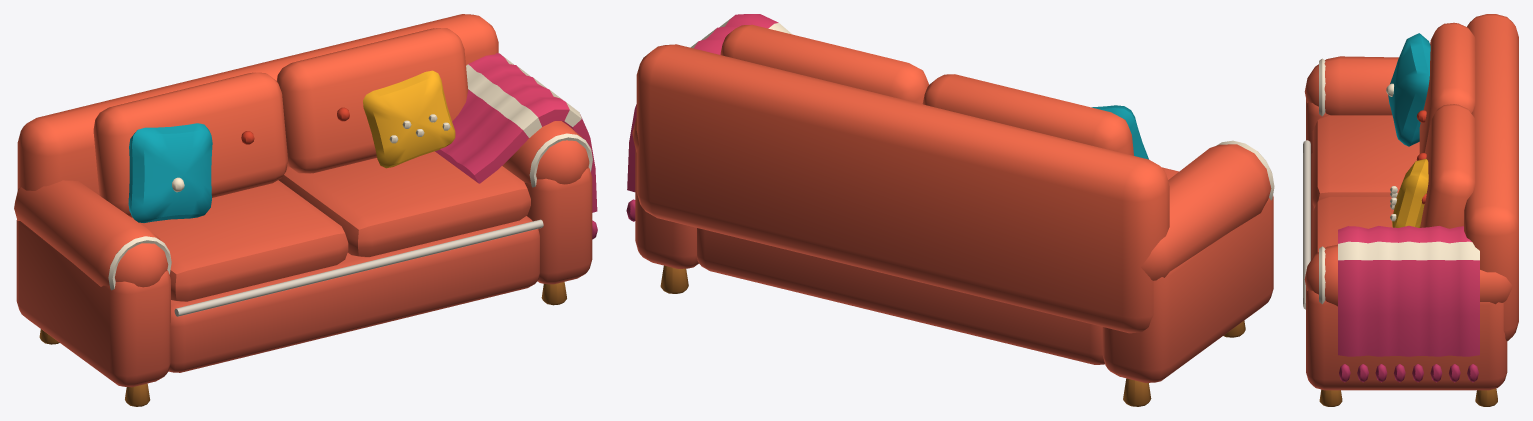
Rendered from sofa.glb.
The picture shows the model from 3 angles, left to right: view 1: azimuth 30°, elevation 25°; view 2: azimuth 150°, elevation 25°; view 3: azimuth 270°, elevation 25°; orthographic projection. The views are drawn at different scales.
Parts seen in each view (by area): view 1: sofa; view 2: sofa; view 3: sofa.
Part boxes in pixels (x1=…): sofa: x1=14, y1=14, x2=597, y2=406; sofa: x1=626, y1=14, x2=1274, y2=406; sofa: x1=1303, y1=14, x2=1518, y2=406.
Bounding box in the file's own units: 2.32 × 1.03 × 0.942.
